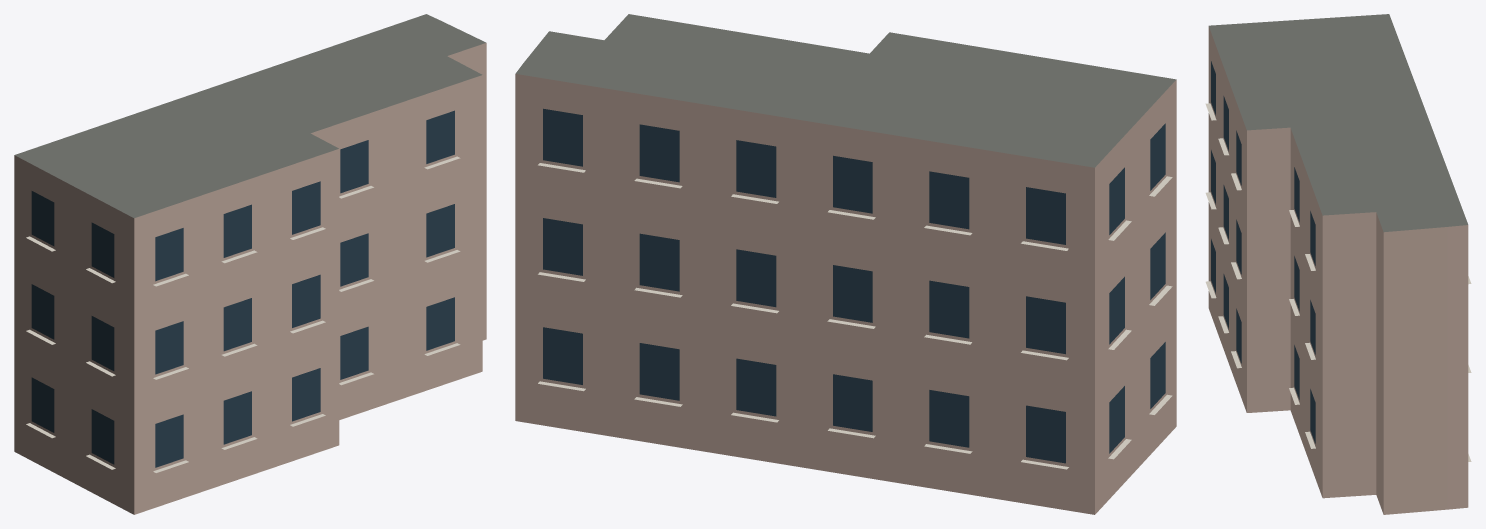
3 views of the same model, side by side, from view 1: azimuth 30°, elevation 25°; view 2: azimuth 150°, elevation 25°; view 3: azimuth 270°, elevation 25° (orthographic). The views are drawn at different scales.
Visible parts, largest first — view 1: Footprint 0, Inferred window bays, Window sills; view 2: Footprint 0, Inferred window bays, Window sills; view 3: Footprint 0, Inferred window bays, Window sills.
Boxes of the visible parts, left/top/right/bottom form: Footprint 0: left=14, top=14, right=486, bottom=514; Inferred window bays: left=31, top=110, right=454, bottom=467; Window sills: left=26, top=156, right=460, bottom=472; Footprint 0: left=515, top=14, right=1176, bottom=514; Inferred window bays: left=543, top=108, right=1165, bottom=463; Window sills: left=538, top=163, right=1172, bottom=469; Footprint 0: left=1208, top=14, right=1468, bottom=514; Inferred window bays: left=1211, top=61, right=1315, bottom=443; Window sills: left=1205, top=103, right=1471, bottom=461.
Size of the model in its own units: 18.5 by 11.12 by 9.48.
